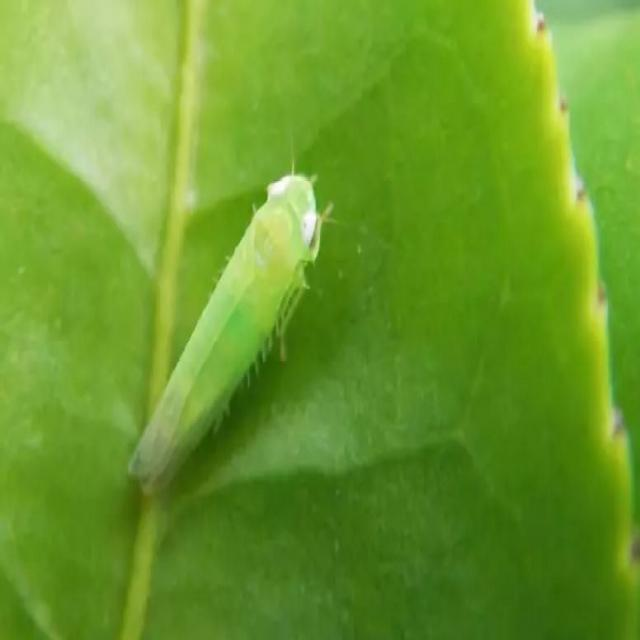Yechan: (119, 155, 339, 515)
